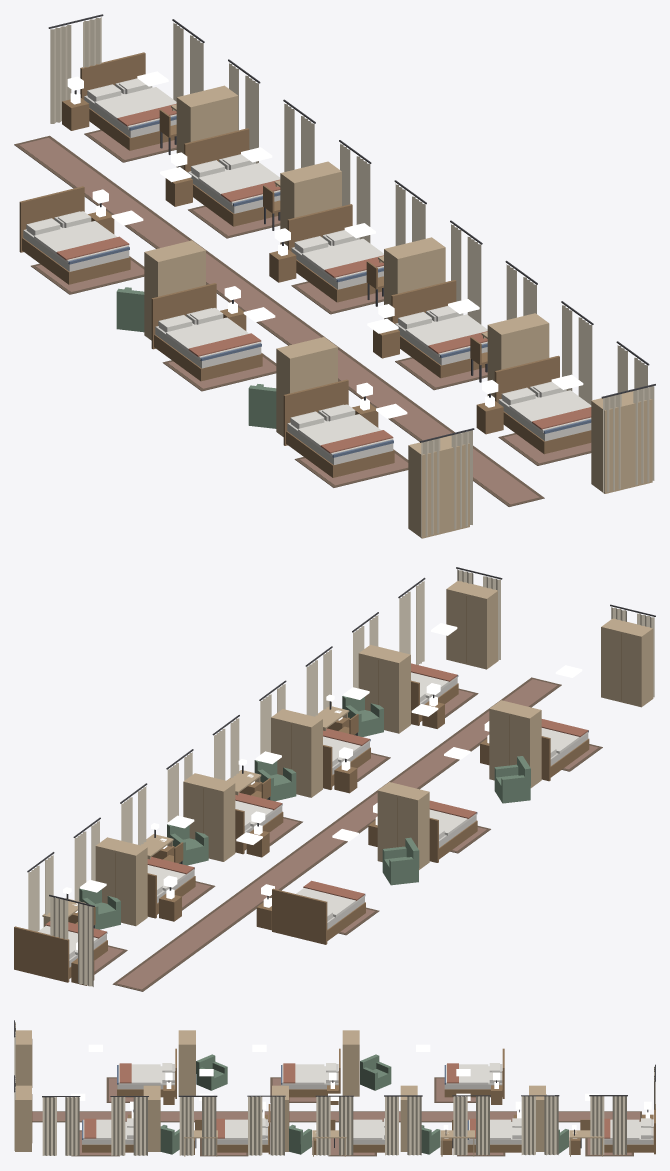
File: fine-s1.glb
3 views of the same model, one above another, from view 1: azimuth 30°, elevation 25°; view 2: azimuth 150°, elevation 25°; view 3: azimuth 270°, elevation 25° (orthographic). The views are drawn at different scales.
Visible parts, largest first — view 1: soft-s1, dresser.002, dresser.007, bed-frame.000, bed-frame.002, bed-frame.001, bed-frame.007, bed-frame.003, bed-frame.005, bed-frame.006, bed-frame.004, dresser.000 (+10 smaller); view 2: soft-s1, dresser.002, dresser.007, dresser.004, dresser.003, dresser.006, dresser.005, dresser.000, dresser.001, bed-frame.000, bed-frame.003, lounge-chair.000 (+13 smaller); view 3: soft-s1, dresser.000, dresser.001, dresser.007, dresser.002, dresser.006, lounge-chair.000, bed-frame.000, lounge-chair.001, bed-frame.001, bed-frame.006, dresser.003 (+17 smaller).
Boxes of the visible parts, bbox=[...] form: soft-s1: bbox=[14, 14, 655, 537]; dresser.002: bbox=[408, 434, 469, 538]; dresser.007: bbox=[591, 390, 652, 493]; bed-frame.000: bbox=[19, 186, 130, 284]; bed-frame.002: bbox=[283, 379, 394, 477]; bed-frame.001: bbox=[151, 283, 262, 381]; bed-frame.007: bbox=[494, 355, 591, 454]; bed-frame.003: bbox=[80, 52, 176, 150]; bed-frame.005: bbox=[287, 204, 383, 302]; bed-frame.006: bbox=[391, 280, 487, 378]; bed-frame.004: bbox=[184, 128, 280, 226]; dresser.000: bbox=[144, 240, 205, 340]; soft-s1: bbox=[27, 567, 655, 991]; dresser.002: bbox=[601, 618, 653, 707]; dresser.007: bbox=[446, 581, 498, 669]; dresser.004: bbox=[183, 773, 235, 861]; dresser.003: bbox=[95, 837, 147, 926]; dresser.006: bbox=[358, 645, 410, 733]; dresser.005: bbox=[271, 709, 322, 797]; dresser.000: bbox=[377, 782, 429, 869]; dresser.001: bbox=[489, 700, 541, 787]; bed-frame.000: bbox=[272, 888, 365, 944]; bed-frame.003: bbox=[14, 926, 107, 982]; lounge-chair.000: bbox=[382, 837, 419, 885]; soft-s1: bbox=[14, 1020, 655, 1156]; dresser.000: bbox=[342, 1030, 359, 1096]; dresser.001: bbox=[178, 1030, 195, 1095]; dresser.007: bbox=[15, 1085, 32, 1151]; dresser.002: bbox=[15, 1030, 32, 1087]; dresser.006: bbox=[143, 1085, 160, 1151]; lounge-chair.000: bbox=[360, 1054, 391, 1090]; bed-frame.000: bbox=[444, 1048, 504, 1098]; lounge-chair.001: bbox=[196, 1054, 227, 1090]; bed-frame.001: bbox=[281, 1048, 340, 1097]; bed-frame.006: bbox=[217, 1104, 270, 1154]; dresser.003: bbox=[529, 1085, 546, 1151].
Bounding box in the file's own units: 6.61 × 2.36 × 22.49.
